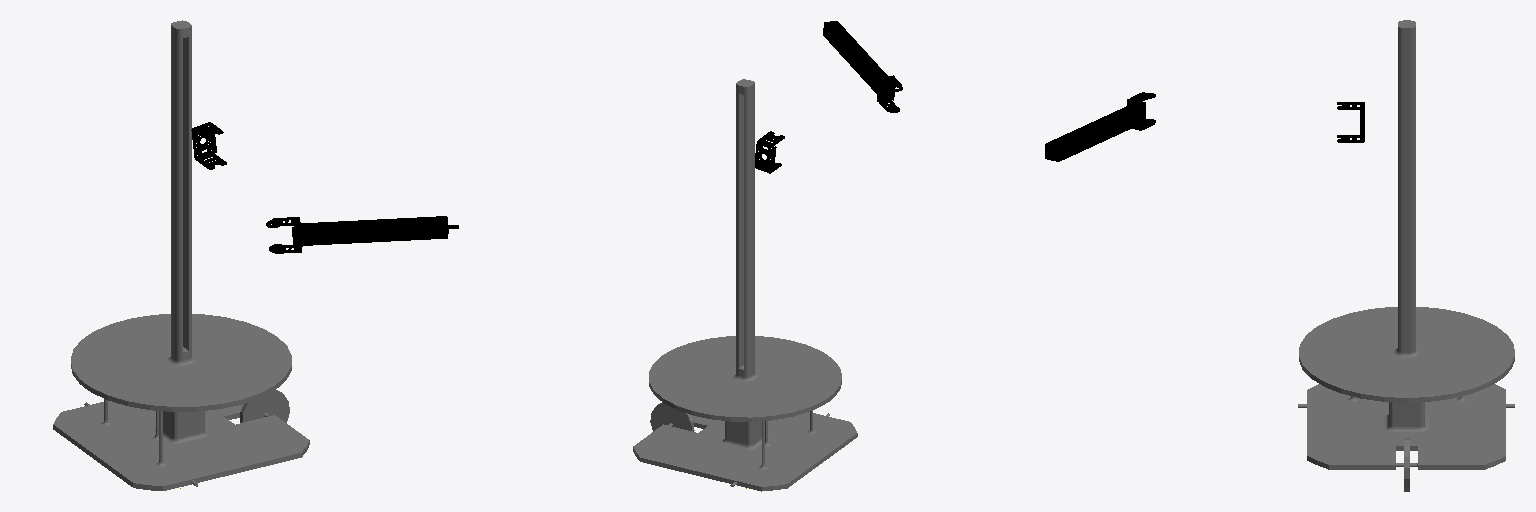
URDF robot description (mm3):
<?xml version="1.0" encoding="utf-8"?>
<!-- This URDF was automatically created by SolidWorks to URDF Exporter! Originally created by [author] ([email redacted]) 
     Commit Version: 1.6.0-1-g15f4949  Build Version: 1.6.7594.29634
     For more information, please see http://wiki.ros.org/sw_urdf_exporter -->
<robot
  name="mm3">

  <!--Base Footprint-->
  <link name="base_footprint">

    <visual>
        <origin xyz="0 0 0" rpy="0 0 0" />
        <geometry>
            <box size="0.001 0.001 0.001" />
        </geometry>
    </visual>
  </link>

  <link
    name="base_link">
    <inertial>
      <origin
        xyz="0.00173390217564579 0 0.0843061553484707"
        rpy="0 0 0" />
      <mass
        value="0.349284003139974" />
      <inertia
        ixx="0.0304523858984784"
        ixy="5.50406492658683E-19"
        ixz="0.00025216663663645"
        iyy="0.030899339272931"
        iyz="-4.35048782183177E-18"
        izz="0.014373902759802" />
    </inertial>
    <visual>
      <origin
        xyz="0 0 0"
        rpy="0 0 0" />
      <geometry>
        <mesh
          filename="package://mm3/meshes/base_link.STL" />
      </geometry>
      <material
        name="">
        <color
          rgba="0.5 0.5 0.5 1" />
      </material>
    </visual>
    <collision>
      <origin
        xyz="0 0 0"
        rpy="0 0 0" />
      <geometry>
        <mesh
          filename="package://mm3/meshes/base_link.STL" />
      </geometry>
    </collision>
  </link>

  <link
    name="left_wheel_link">
    <inertial>
      <origin
        xyz="0 -0.00381000000000001 5.55111512312578E-17"
        rpy="0 0 0" />
      <mass
        value="1.5346943989182399" />
      <inertia
        ixx="1.27787049860377E-05"
        ixy="1.68083100470696E-24"
        ixz="1.27720288529703E-22"
        iyy="2.52216583959841E-05"
        iyz="-2.76286596398839E-23"
        izz="1.27787049860377E-05" />
    </inertial>
    <visual>
      <origin
        xyz="0 0 0"
        rpy="0 0 0" />
      <geometry>
        <mesh
          filename="package://mm3/meshes/left_wheel_link.STL" />
      </geometry>
      <material
        name="">
        <color
          rgba="0 0 0 1" />
      </material>
    </visual>
    <collision>
      <origin
        xyz="0 0 0"
        rpy="0 0 0" />
      <geometry>
        <mesh
          filename="package://mm3/meshes/left_wheel_link.STL" />
      </geometry>
    </collision>
  </link>
  <joint
    name="left_wheel_joint"
    type="continuous">
    <origin
      xyz="-0.0634999999999999 0.1524 -0.00381000000000004"
      rpy="0 0 0" />
    <parent
      link="base_link" />
    <child
      link="left_wheel_link" />
    <axis
      xyz="0 1 0" />
  </joint>
  <link
    name="right_wheel_link">
    <inertial>
      <origin
        xyz="0 0.00380999999999998 -5.55111512312578E-17"
        rpy="0 0 0" />
      <mass
        value="1.5346943989182401" />
      <inertia
        ixx="1.27787049860378E-05"
        ixy="2.61579325107647E-23"
        ixz="6.80514049764725E-22"
        iyy="2.52216583959842E-05"
        iyz="2.5212465070615E-24"
        izz="1.27787049860378E-05" />
    </inertial>
    <visual>
      <origin
        xyz="0 0 0"
        rpy="0 0 0" />
      <geometry>
        <mesh
          filename="package://mm3/meshes/right_wheel_link.STL" />
      </geometry>
      <material
        name="">
        <color
          rgba="0 0 0 1" />
      </material>
    </visual>
    <collision>
      <origin
        xyz="0 0 0"
        rpy="0 0 0" />
      <geometry>
        <mesh
          filename="package://mm3/meshes/right_wheel_link.STL" />
      </geometry>
    </collision>
  </link>
  <joint
    name="right_wheel_joint"
    type="continuous">
    <origin
      xyz="-0.0635 -0.1524 -0.00381000000000004"
      rpy="0 0 0" />
    <parent
      link="base_link" />
    <child
      link="right_wheel_link" />
    <axis
      xyz="0 1 0" />
  </joint>
  <link
    name="slider_link">
    <inertial>
      <origin
        xyz="0.0149538868469983 5.55111512312578E-17 2.22044604925031E-16"
        rpy="0 0 0" />
      <mass
        value="0.00147368863515062" />
      <inertia
        ixx="3.41312050549112E-05"
        ixy="-2.12817027997643E-20"
        ixz="2.00111533788828E-20"
        iyy="5.0015957687414E-05"
        iyz="8.4431467695391E-09"
        izz="5.99790889646899E-05" />
    </inertial>
    <visual>
      <origin
        xyz="0 0 0"
        rpy="0 0 0" />
      <geometry>
        <mesh
          filename="package://mm3/meshes/slider_link.STL" />
      </geometry>
      <material
        name="">
        <color
          rgba="0 0 0 1" />
      </material>
    </visual>
    <collision>
      <origin
        xyz="0 0 0"
        rpy="0 0 0" />
      <geometry>
        <mesh
          filename="package://mm3/meshes/slider_link.STL" />
      </geometry>
    </collision>
  </link>
  <joint
    name="Linear_joint"
    type="prismatic">
    <origin
      xyz="0 0 0.465419250997699"
      rpy="0 0 0" />
    <parent
      link="base_link" />
    <child
      link="slider_link" />
    <axis
      xyz="0 0 1" />
    <dynamics damping="0.0" friction="2.0" />
    <limit
      lower="-0.3"
      upper="0.4"
      effort="20"
      velocity="1" />
  </joint>
  <link
    name="left_arm_link1">
    <inertial>
      <origin
        xyz="5.55111512312578E-17 -7.54951656745106E-15 0.00721868535211012"
        rpy="0 0 0" />
      <mass
        value="0.000262271552264886" />
      <inertia
        ixx="3.49057884866459E-06"
        ixy="-1.91905902112302E-21"
        ixz="-2.04131450052993E-22"
        iyy="1.59254226762019E-06"
        iyz="2.76824983987479E-19"
        izz="3.31612378770382E-06" />
    </inertial>
    <visual>
      <origin
        xyz="0 0 0"
        rpy="0 0 0" />
      <geometry>
        <mesh
          filename="package://mm3/meshes/left_arm_link1.STL" />
      </geometry>
      <material
        name="">
        <color
          rgba="0 0 0 1" />
      </material>
    </visual>
    <collision>
      <origin
        xyz="0 0 0"
        rpy="0 0 0" />
      <geometry>
        <mesh
          filename="package://mm3/meshes/left_arm_link1.STL" />
      </geometry>
    </collision>
  </link>
  <joint
    name="left_arm_joint1"
    type="revolute">
    <origin
      xyz="0 0.06169 0"
      rpy="-1.5707963267949 -0.104271521762714 0" />
    <parent
      link="slider_link" />
    <child
      link="left_arm_link1" />
    <axis
      xyz="0 0 1" />
    <dynamics damping="0.0" friction="0.0" />
    <limit
      lower="-3.14"
      upper="3.14"
      effort="20"
      velocity="1" />
  </joint>
  <link
    name="left_arm_link2">
    <inertial>
      <origin
        xyz="-0.000386050977486174 0.131149620889107 0.00408244968667737"
        rpy="0 0 0" />
      <mass
        value="0.000269559994245249" />
      <inertia
        ixx="0.000626666445812035"
        ixy="1.01125491697749E-07"
        ixz="4.22206647780715E-09"
        iyy="5.26421344069657E-05"
        iyz="-6.97143268529835E-07"
        izz="0.000646289920709439" />
    </inertial>
    <visual>
      <origin
        xyz="0 0 0"
        rpy="0 0 0" />
      <geometry>
        <mesh
          filename="package://mm3/meshes/left_arm_link2.STL" />
      </geometry>
      <material
        name="">
        <color
          rgba="0 0 0 1" />
      </material>
    </visual>
    <collision>
      <origin
        xyz="0 0 0"
        rpy="0 0 0" />
      <geometry>
        <mesh
          filename="package://mm3/meshes/left_arm_link2.STL" />
      </geometry>
    </collision>
  </link>
  <joint
    name="left_arm_joint2"
    type="revolute">
    <origin
      xyz="0 0.000409999999999966 0.0328500000000012"
      rpy="-1.5707963267949 1.42649840138861 3.14159265358979" />
    <parent
      link="left_arm_link1" />
    <child
      link="left_arm_link2" />
    <axis
      xyz="0 0 1" />
    <dynamics damping="0.0" friction="0.0" />
    <limit
      lower="-3.14"
      upper="3.14"
      effort="20"
      velocity="1" />
  </joint>
  <link
    name="left_arm_link3">
    <inertial>
      <origin
        xyz="7.7585993185636E-12 0.127666730960711 0.00248796280788233"
        rpy="0 0 0" />
      <mass
        value="0.000117160247772208" />
      <inertia
        ixx="0.000432375218898243"
        ixy="1.9235141209419E-13"
        ixz="-1.97571929113185E-13"
        iyy="1.17109799447477E-05"
        iyz="-3.77855824152796E-11"
        izz="0.000431190534395112" />
    </inertial>
    <visual>
      <origin
        xyz="0 0 0"
        rpy="0 0 0" />
      <geometry>
        <mesh
          filename="package://mm3/meshes/left_arm_link3.STL" />
      </geometry>
      <material
        name="">
        <color
          rgba="0 0 0 1" />
      </material>
    </visual>
    <collision>
      <origin
        xyz="0 0 0"
        rpy="0 0 0" />
      <geometry>
        <mesh
          filename="package://mm3/meshes/left_arm_link3.STL" />
      </geometry>
    </collision>
  </link>
  <joint
    name="left_arm_joint3"
    type="revolute">
    <origin
      xyz="0 0.275500000000001 0.00132500000000046"
      rpy="0 0 -1.22699295300387" />
    <parent
      link="left_arm_link2" />
    <child
      link="left_arm_link3" />
    <axis
      xyz="0 0 1" />
    <dynamics damping="0.0" friction="0.0" />
    <limit
      lower="-3.14"
      upper="3.14"
      effort="20"
      velocity="1" />
  </joint>
  <link
    name="left_gripper_link1">
    <inertial>
      <origin
        xyz="-1.4607334100844E-06 -0.00194327287027751 0.0117967697171139"
        rpy="0 0 0" />
      <mass
        value="0.000053976956819555" />
      <inertia
        ixx="3.80757548207709E-05"
        ixy="7.15084343138609E-10"
        ixz="4.25117723141182E-10"
        iyy="1.26201502037341E-05"
        iyz="6.99476870158451E-06"
        izz="3.03777532412141E-05" />
    </inertial>
    <visual>
      <origin
        xyz="0 0 0"
        rpy="0 0 0" />
      <geometry>
        <mesh
          filename="package://mm3/meshes/left_gripper_link1.STL" />
      </geometry>
      <material
        name="">
        <color
          rgba="0.792156862745098 0 0 1" />
      </material>
    </visual>
    <collision>
      <origin
        xyz="0 0 0"
        rpy="0 0 0" />
      <geometry>
        <mesh
          filename="package://mm3/meshes/left_gripper_link1.STL" />
      </geometry>
    </collision>
  </link>
  <joint
    name="left_gripper_joint1"
    type="revolute">
    <origin
      xyz="0 0.2457 0.00252500000000067"
      rpy="1.5707963267949 0.0962411704932018 3.14159265358979" />
    <parent
      link="left_arm_link3" />
    <child
      link="left_gripper_link1" />
    <axis
      xyz="0 0 1" />
    <dynamics damping="0.0" friction="10.0" />
    <limit
      lower="3.14"
      upper="3.14"
      effort="0"
      velocity="0" />
  </joint>
  <link
    name="right_arm_link1">
    <inertial>
      <origin
        xyz="1.38777878078145E-17 7.43849426498855E-15 0.00721868535211012"
        rpy="0 0 0" />
      <mass
        value="0.000662271552264882" />
      <inertia
        ixx="3.49057884866457E-06"
        ixy="1.64112633530521E-21"
        ixz="2.17326351823307E-21"
        iyy="1.59254226762017E-06"
        iyz="-2.76309833976513E-19"
        izz="3.31612378770381E-06" />
    </inertial>
    <visual>
      <origin
        xyz="0 0 0"
        rpy="0 0 0" />
      <geometry>
        <mesh
          filename="package://mm3/meshes/right_arm_link1.STL" />
      </geometry>
      <material
        name="">
        <color
          rgba="0 0 0 1" />
      </material>
    </visual>
    <collision>
      <origin
        xyz="0 0 0"
        rpy="0 0 0" />
      <geometry>
        <mesh
          filename="package://mm3/meshes/right_arm_link1.STL" />
      </geometry>
    </collision>
  </link>
  <joint
    name="right_arm_joint1"
    type="revolute">
    <origin
      xyz="0 -0.0616899999999999 0"
      rpy="1.5707963267949 -0.113951864414894 0" />
    <parent
      link="slider_link" />
    <child
      link="right_arm_link1" />
    <axis
      xyz="0 0 1" />
    <dynamics damping="0.0" friction="0.0" />
    <limit
      lower="-3.14"
      upper="3.14"
      effort="20"
      velocity="1" />
  </joint>
  <link
    name="right_arm_link2">
    <inertial>
      <origin
        xyz="0.000386050993758116 0.131149615601439 -0.00408244949469516"
        rpy="0 0 0" />
      <mass
        value="0.000269559986614646" />
      <inertia
        ixx="0.000626666444389549"
        ixy="-1.01125387345862E-07"
        ixz="4.22200360437853E-09"
        iyy="5.26421329293233E-05"
        iyz="6.97144066518244E-07"
        izz="0.000646289919296432" />
    </inertial>
    <visual>
      <origin
        xyz="0 0 0"
        rpy="0 0 0" />
      <geometry>
        <mesh
          filename="package://mm3/meshes/right_arm_link2.STL" />
      </geometry>
      <material
        name="">
        <color
          rgba="0 0 0 1" />
      </material>
    </visual>
    <collision>
      <origin
        xyz="0 0 0"
        rpy="0 0 0" />
      <geometry>
        <mesh
          filename="package://mm3/meshes/right_arm_link2.STL" />
      </geometry>
    </collision>
  </link>
  <joint
    name="right_arm_joint2"
    type="revolute">
    <origin
      xyz="0 -0.0041000000000001 0.03285"
      rpy="1.5707963267949 -0.223639177067847 0" />
    <parent
      link="right_arm_link1" />
    <child
      link="right_arm_link2" />
    <axis
      xyz="0 0 1" />
    <dynamics damping="0.0" friction="0.0" />
    <limit
      lower="-3.14"
      upper="3.14"
      effort="20"
      velocity="1" />
  </joint>
  <link
    name="right_arm_link3">
    <inertial>
      <origin
        xyz="-8.03945798821815E-12 0.127666730954126 -0.00248796280778008"
        rpy="0 0 0" />
      <mass
        value="0.000117160247772503" />
      <inertia
        ixx="0.000432375218957"
        ixy="1.31457535161802E-13"
        ixz="-2.12472692163925E-13"
        iyy="1.17109798859883E-05"
        iyz="3.76200031565623E-11"
        izz="0.00043119053439511" />
    </inertial>
    <visual>
      <origin
        xyz="0 0 0"
        rpy="0 0 0" />
      <geometry>
        <mesh
          filename="package://mm3/meshes/right_arm_link3.STL" />
      </geometry>
      <material
        name="">
        <color
          rgba="0 0 0 1" />
      </material>
    </visual>
    <collision>
      <origin
        xyz="0 0 0"
        rpy="0 0 0" />
      <geometry>
        <mesh
          filename="package://mm3/meshes/right_arm_link3.STL" />
      </geometry>
    </collision>
  </link>
  <joint
    name="right_arm_joint3"
    type="revolute">
    <origin
      xyz="0 0.275500000000005 -0.00132500000000046"
      rpy="0 0 -1.19168018686034" />
    <parent
      link="right_arm_link2" />
    <child
      link="right_arm_link3" />
    <axis
      xyz="0 0 1" />
    <dynamics damping="0.0" friction="0.0" />
    <limit
      lower="-3.14"
      upper="3.14"
      effort="20"
      velocity="1" />
  </joint>
  <link
    name="right_gripper_link1">
    <inertial>
      <origin
        xyz="1.4607334758443E-06 0.00194327287032903 0.0117967697171131"
        rpy="0 0 0" />
      <mass
        value="0.0000539769568195551" />
      <inertia
        ixx="3.8075754820771E-05"
        ixy="7.1508434317527E-10"
        ixz="-4.25117723114839E-10"
        iyy="1.26201502037342E-05"
        iyz="-6.99476870158452E-06"
        izz="3.03777532412142E-05" />
    </inertial>
    <visual>
      <origin
        xyz="0 0 0"
        rpy="0 0 0" />
      <geometry>
        <mesh
          filename="package://mm3/meshes/right_gripper_link1.STL" />
      </geometry>
      <material
        name="">
        <color
          rgba="0.792156862745098 0 0 1" />
      </material>
    </visual>
    <collision>
      <origin
        xyz="0 0 0"
        rpy="0 0 0" />
      <geometry>
        <mesh
          filename="package://mm3/meshes/right_gripper_link1.STL" />
      </geometry>
    </collision>
  </link>
  <joint
    name="right_gripper_joint1"
    type="revolute">
    <origin
      xyz="0 0.245700000000154 -0.00252499999994871"
      rpy="-1.5707963267949 -0.0104102836047576 0" />
    <parent
      link="right_arm_link3" />
    <child
      link="right_gripper_link1" />
    <axis
      xyz="0 0 1" />
    <dynamics damping="0.0" friction="10.0" />
    <limit
      lower="0"
      upper="0"
      effort="0"
      velocity="0" />
  </joint>
     <!--base_link to base_footprint Joint-->
  <joint name="base_link_joint" type="fixed">
      <origin
        xyz="0.00173390217564579 0 0.0843061553484707"
        rpy="0 0 0" />
    <parent link="base_footprint"/>
    <child link="base_link" />
  </joint>

  <transmission name="Linear_joint_trans">
    <type> transmission_interface/SimpleTransmission</type>
    <joint name="Linear_joint">
      <hardwareInterface>EffortJointInterface</hardwareInterface>
    </joint>
    <actuator name="Linear_joint_motor">
      <mechanicalReduction>50</mechanicalReduction>
    </actuator>
  </transmission>
 
  <transmission name="left_arm_joint1_trans">
    <type> transmission_interface/SimpleTransmission</type>
    <joint name="left_arm_joint1">
      <hardwareInterface>EffortJointInterface</hardwareInterface>
    </joint>
    <actuator name="left_arm_joint1_motor">
      <mechanicalReduction>50</mechanicalReduction>
    </actuator>
  </transmission>
  <transmission name="left_arm_joint2_trans">
    <type> transmission_interface/SimpleTransmission</type>
    <joint name="left_arm_joint2">
      <hardwareInterface>EffortJointInterface</hardwareInterface>
    </joint>
    <actuator name="left_arm_joint2_motor">
      <mechanicalReduction>50</mechanicalReduction>
    </actuator>
  </transmission>
     <transmission name="left_arm_joint3_trans">
    <type> transmission_interface/SimpleTransmission</type>
    <joint name="left_arm_joint3">
      <hardwareInterface>EffortJointInterface</hardwareInterface>
    </joint>
    <actuator name="left_arm_joint3_motor">
      <mechanicalReduction>50</mechanicalReduction>
    </actuator>
  </transmission>
  <transmission name="left_gripper_joint1_trans">
    <type> transmission_interface/SimpleTransmission</type>
    <joint name="left_gripper_joint1">
      <hardwareInterface>EffortJointInterface</hardwareInterface>
    </joint>
    <actuator name="left_gripper_joint1_motor">
      <mechanicalReduction>50</mechanicalReduction>
    </actuator>
  </transmission> 
  
      <transmission name="right_arm_joint1_trans">
    <type> transmission_interface/SimpleTransmission</type>
    <joint name="right_arm_joint1">
      <hardwareInterface>EffortJointInterface</hardwareInterface>
    </joint>
    <actuator name="right_arm_joint1_motor">
      <mechanicalReduction>50</mechanicalReduction>
    </actuator>
  </transmission>
  <transmission name="right_arm_joint2_trans">
    <type> transmission_interface/SimpleTransmission</type>
    <joint name="right_arm_joint2">
      <hardwareInterface>EffortJointInterface</hardwareInterface>
    </joint>
    <actuator name="right_arm_joint2_motor">
      <mechanicalReduction>50</mechanicalReduction>
    </actuator>
  </transmission>
    <transmission name="right_arm_joint3_trans">
    <type> transmission_interface/SimpleTransmission</type>
    <joint name="right_arm_joint3">
      <hardwareInterface>EffortJointInterface</hardwareInterface>
    </joint>
    <actuator name="right_arm_joint3_tor">
      <mechanicalReduction>50</mechanicalReduction>
    </actuator>
  </transmission>
  <transmission name="right_gripper_joint1_trans">
    <type> transmission_interface/SimpleTransmission</type>
    <joint name="right_gripper_joint1">
      <hardwareInterface>EffortJointInterface</hardwareInterface>
    </joint>
    <actuator name="right_gripper_joint1_motor">
      <mechanicalReduction>50</mechanicalReduction>
    </actuator>
  </transmission>  



</robot>

--- Render facts (derived) ---
Views: 3 orthographic renders of the robot side by side, from view 1: azimuth 30°, elevation 25°; view 2: azimuth 150°, elevation 25°; view 3: azimuth 270°, elevation 25°.
Model mm3 with 13 links and 12 joints (8 revolute, 2 continuous, 1 prismatic, 1 fixed), rooted at base_footprint, posed joints at zero except 1 at the middle of their limits (left_gripper_joint1 = 3.14).
Visible links, largest first — view 1: base_link, right_arm_link3, right_arm_link1; view 2: base_link, right_arm_link3, right_arm_link1; view 3: base_link, right_arm_link3, right_arm_link1.
Link boxes in pixels (x1=…): base_link: x1=53, y1=20, x2=309, y2=490; right_arm_link3: x1=266, y1=216, x2=458, y2=253; right_arm_link1: x1=191, y1=122, x2=226, y2=169; base_link: x1=633, y1=79, x2=857, y2=491; right_arm_link3: x1=823, y1=21, x2=902, y2=112; right_arm_link1: x1=755, y1=131, x2=784, y2=173; base_link: x1=1298, y1=20, x2=1514, y2=491; right_arm_link3: x1=1045, y1=92, x2=1155, y2=161; right_arm_link1: x1=1337, y1=102, x2=1364, y2=142.
Size in the robot's own frame: 0.3224 by 0.6612 by 0.702 metres.
3 mesh visuals loaded from 12 distinct referenced files (3 binary STL); not drawn: 9 (reference not matched to a file when rendering).